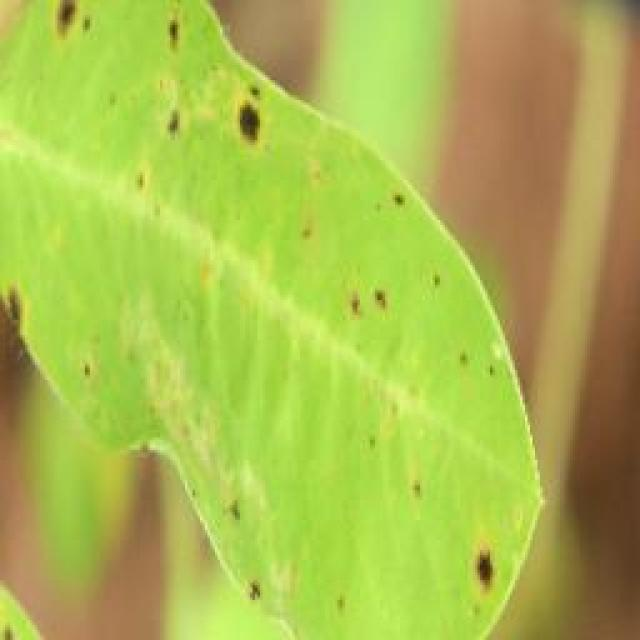Early_leaf_spot: (207, 57, 302, 172), (321, 266, 427, 346), (429, 325, 518, 405), (362, 167, 437, 241), (193, 474, 259, 544), (140, 76, 200, 152), (454, 537, 512, 609), (0, 264, 56, 338), (28, 0, 112, 46), (208, 570, 276, 624), (44, 337, 101, 401), (412, 251, 469, 305), (149, 4, 206, 55)
